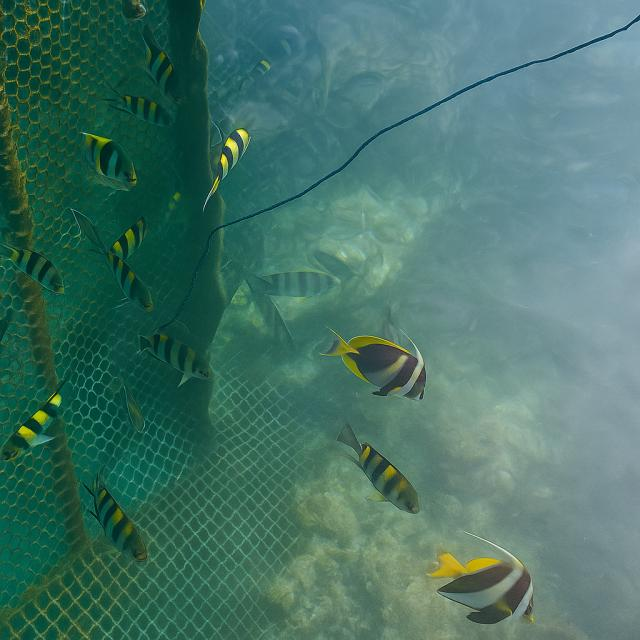ikan: (426, 529, 535, 626), (243, 256, 341, 350), (69, 207, 154, 314), (318, 325, 427, 401), (334, 420, 420, 514), (79, 467, 148, 562), (0, 374, 70, 462), (201, 126, 251, 212), (136, 332, 212, 387), (80, 130, 138, 193), (101, 80, 175, 128), (140, 21, 182, 105), (0, 241, 65, 295), (244, 268, 340, 300), (108, 215, 147, 260), (116, 377, 146, 432)
